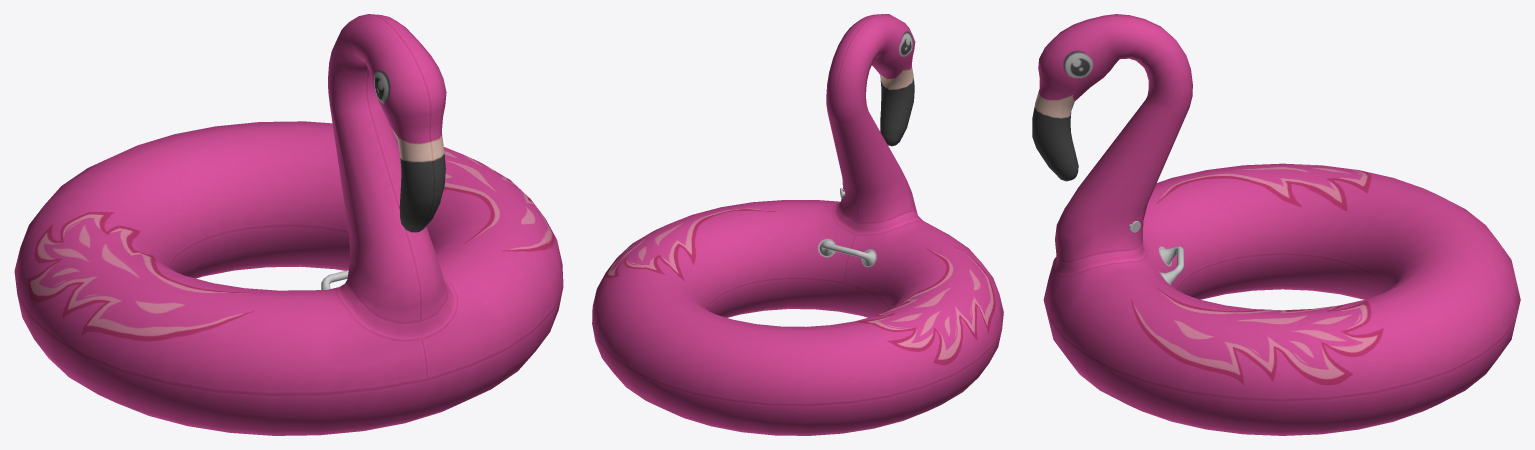
3 views of the same model, side by side, from view 1: azimuth 30°, elevation 25°; view 2: azimuth 150°, elevation 25°; view 3: azimuth 270°, elevation 25° (orthographic). The views are drawn at different scales.
Parts seen in each view (by area): view 1: BeachToy_BeachToy_0; view 2: BeachToy_BeachToy_0; view 3: BeachToy_BeachToy_0.
Part boxes in pixels (x1=…): BeachToy_BeachToy_0: x1=14, y1=14, x2=563, y2=435; BeachToy_BeachToy_0: x1=592, y1=14, x2=1003, y2=435; BeachToy_BeachToy_0: x1=1032, y1=14, x2=1520, y2=435.
Bounding box in the file's own units: 168 × 133 × 173.
Materials: 1 (1 with a texture image).
